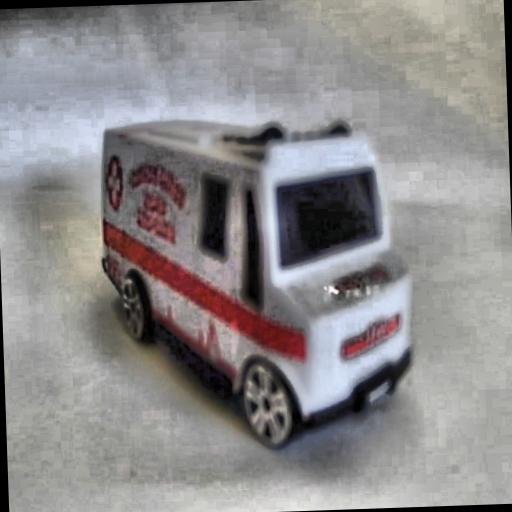ambulance: (95, 110, 416, 456)
